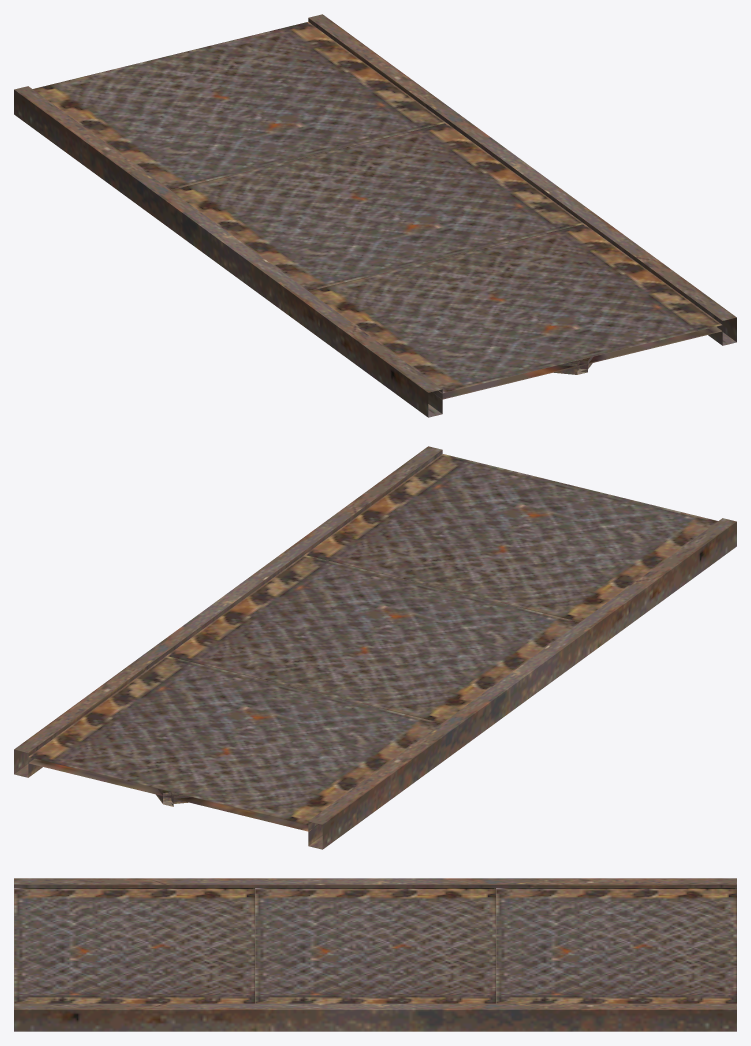
Rendered from Bridge1.fbx.
3 renders of one model, top to bottom at view 1: azimuth 30°, elevation 25°; view 2: azimuth 150°, elevation 25°; view 3: azimuth 270°, elevation 25°, orthographic. The views are drawn at different scales.
Visible parts, largest first — view 1: Bridge; view 2: Bridge; view 3: Bridge.
Boxes of the visible parts, x1,y1,x2,y2 form: Bridge: [14, 14, 736, 417]; Bridge: [14, 446, 736, 849]; Bridge: [14, 878, 736, 1031].
Size of the model in its own units: 209 by 16.1 by 485.
